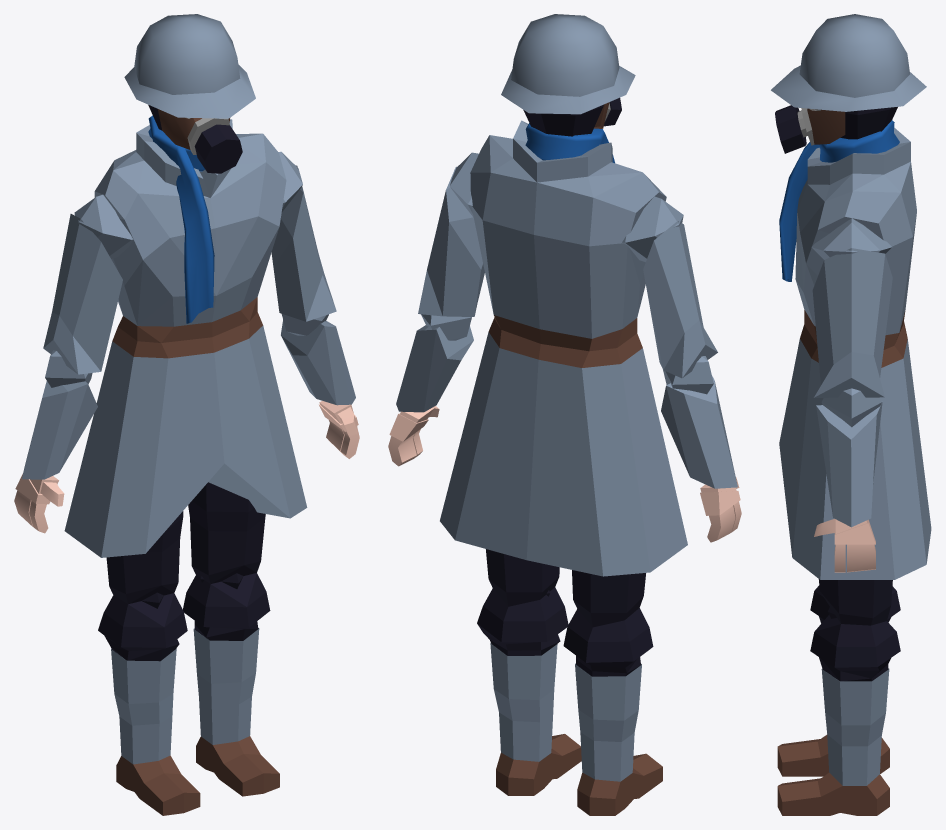
Rendered from CHAR_Soldier.fbx.
3 renders of one model, left to right at view 1: azimuth 30°, elevation 25°; view 2: azimuth 150°, elevation 25°; view 3: azimuth 270°, elevation 25°, orthographic. The views are drawn at different scales.
Visible parts, largest first — view 1: Waist, Torso, Head, Right_Calf, Left_Calf, Right_Arm, Left_Thigh, Left_Arm, Right_Forearm, Scarf, Left_Forearm, Right_Thigh (+3 smaller); view 2: Waist, Torso, Head, Left_Calf, Right_Calf, Right_Arm, Left_Arm, Right_Forearm, Left_Forearm, Right_Thigh, Right_Foot, Left_Foot (+5 smaller); view 3: Waist, Head, Torso, Left_Arm, Left_Calf, Left_Forearm, Left_Foot, Scarf, Left_Thigh, Right_Foot, Left_Hand, Fingers (+2 smaller).
Boxes of the visible parts, x1,y1,x2,y2 form: Waist: (64,312,307,557); Torso: (94,119,286,342); Head: (124,14,255,173); Right_Calf: (98,592,187,764); Left_Calf: (183,573,270,744); Right_Arm: (43,194,133,374); Left_Thigh: (188,482,265,583); Left_Arm: (271,151,336,321); Right_Forearm: (22,350,97,479); Scarf: (148,115,214,323); Left_Forearm: (281,314,355,405); Right_Thigh: (106,511,183,604); Waist: (440,318,687,576); Torso: (470,120,666,351); Head: (501,14,635,136); Left_Calf: (477,587,568,761); Right_Calf: (563,608,653,781); Right_Arm: (622,196,717,378); Left_Arm: (418,152,484,316); Right_Forearm: (661,356,737,488); Left_Forearm: (396,314,473,412); Right_Thigh: (572,570,645,627); Right_Foot: (577,753,662,815); Left_Foot: (496,734,581,795); Waist: (779,322,931,579); Head: (771,14,926,153); Torso: (795,128,916,349); Left_Arm: (811,218,892,397); Left_Calf: (810,607,900,785); Left_Forearm: (816,388,882,527); Left_Foot: (777,772,889,815); Scarf: (779,120,899,281); Left_Thigh: (818,579,892,625); Right_Foot: (777,734,889,776); Left_Hand: (834,519,875,544); Fingers: (847,544,875,572).
Size of the model in its own units: 91.37 by 197 by 37.53.
